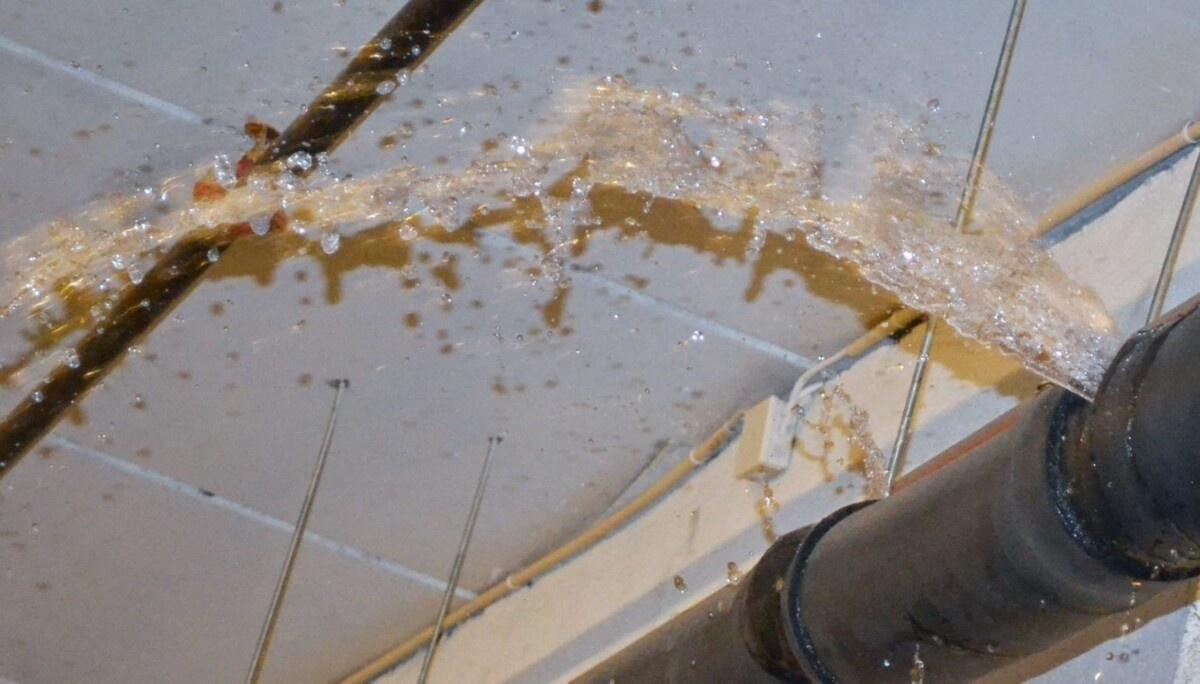pipe burst: (0, 71, 1138, 403)
